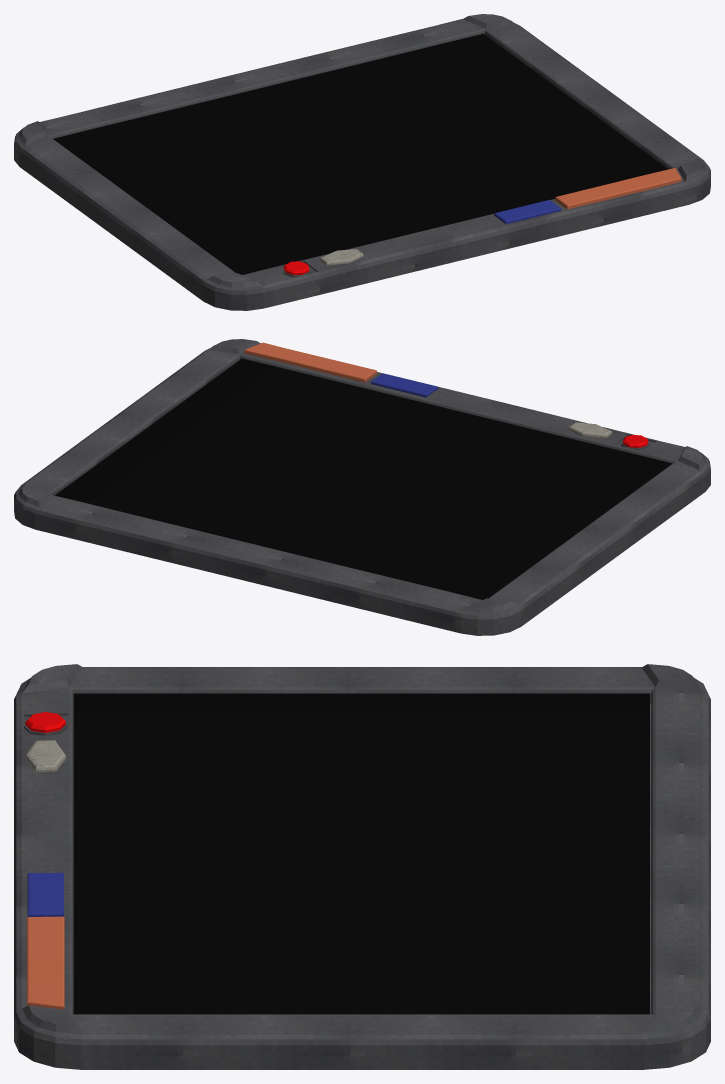
File: tablet.glb
3 renders of one model, top to bottom at view 1: azimuth 30°, elevation 25°; view 2: azimuth 150°, elevation 25°; view 3: azimuth 270°, elevation 25°, orthographic. The views are drawn at different scales.
Parts seen in each view (by area): view 1: Screen, Cube.002; view 2: Screen, Cube.002; view 3: Screen, Cube.002.
Boxes of the visible parts, <box> form: Screen: <box>53,34,668,274</box>; Cube.002: <box>14,14,710,310</box>; Screen: <box>55,358,671,599</box>; Cube.002: <box>14,339,710,635</box>; Screen: <box>73,693,649,1014</box>; Cube.002: <box>14,664,710,1069</box>.
Bounding box in the file's own units: 0.696 × 0.0331 × 0.548.
Materials: 6 (2 with a texture image).
